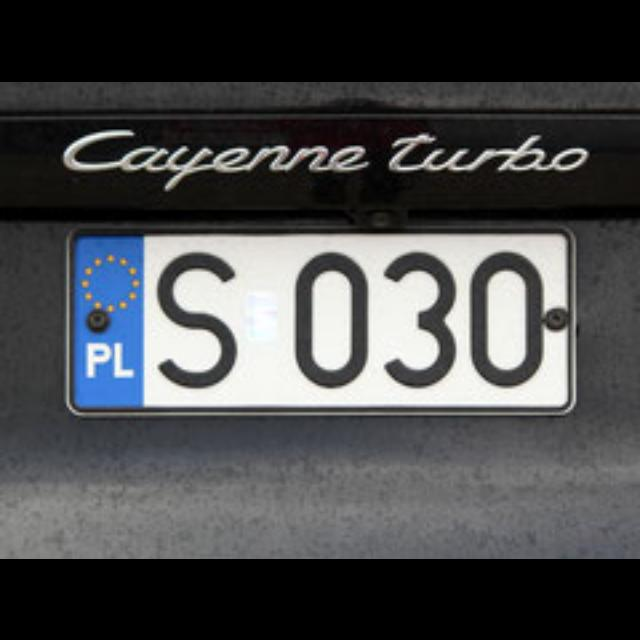pl_license_plate: (64, 225, 574, 411)
